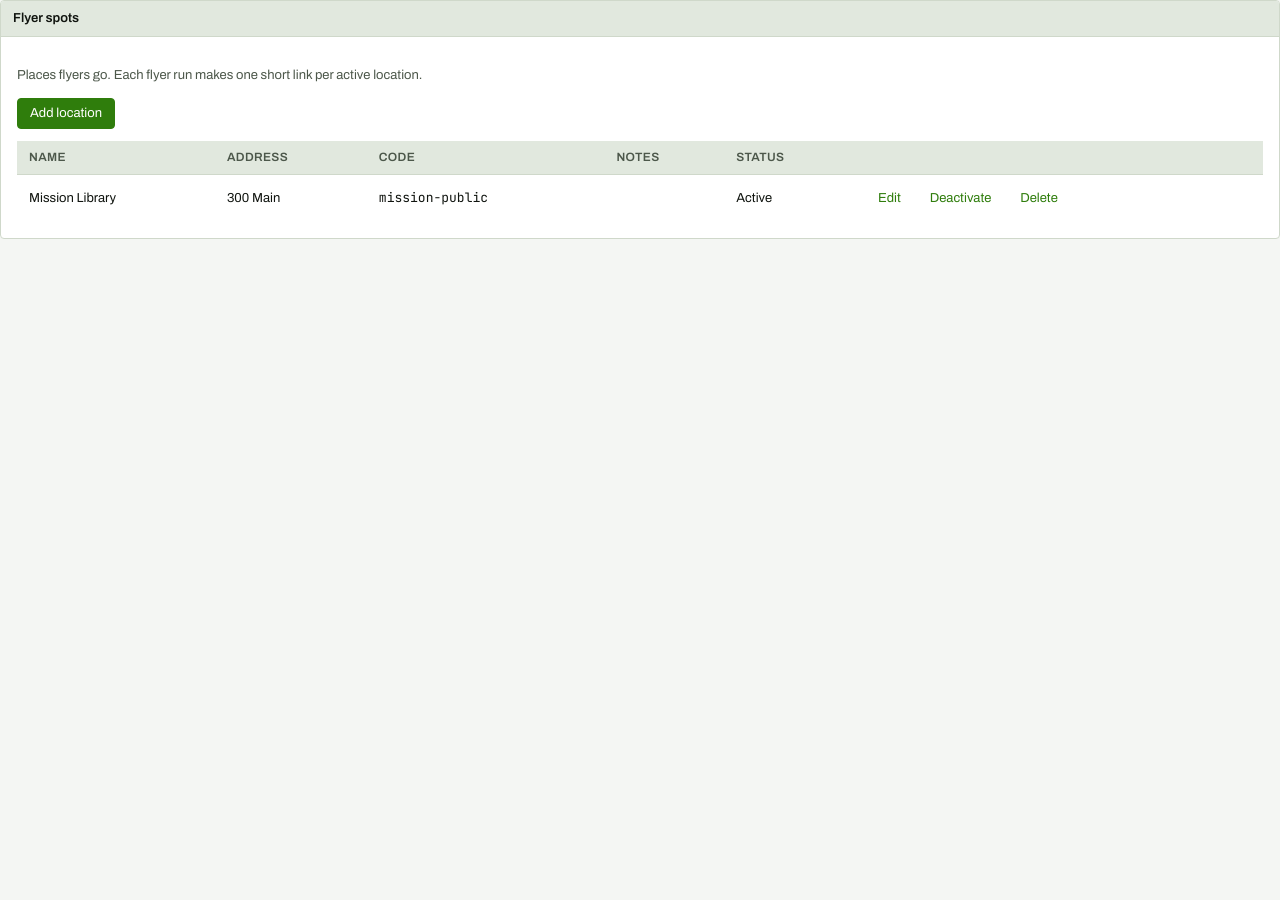
Test: OutreachLocations › avoids an existing code when suggesting
Expected: the text "Mission Library" is shown, [17,175,215,222]
Click the button "Add location".
click(66, 113)  # box [17,98,115,129]
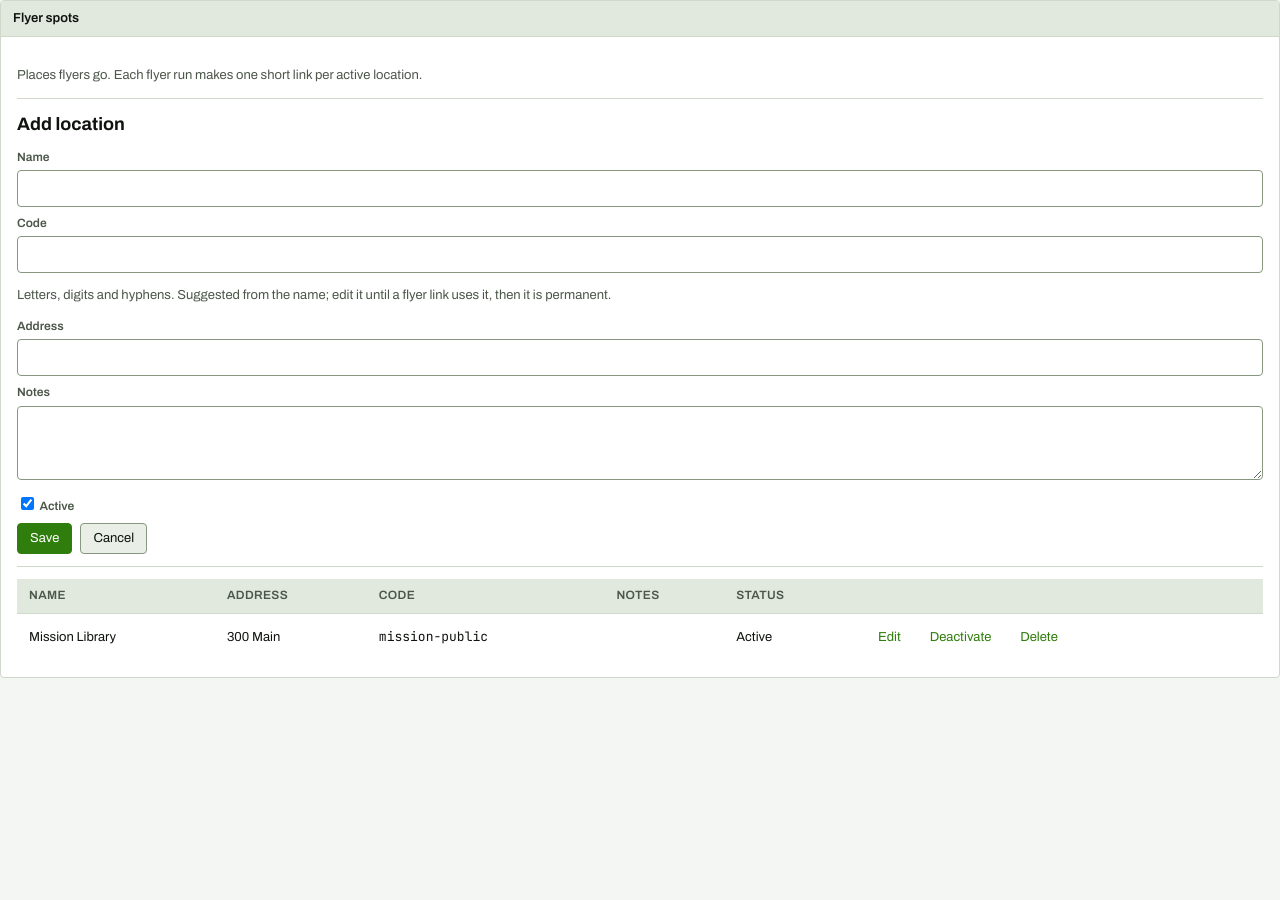
Type "Mission Public Library" into the field labelled "Name".
click(640, 189); type("Mission Public Library")  # box [17,170,1263,207]
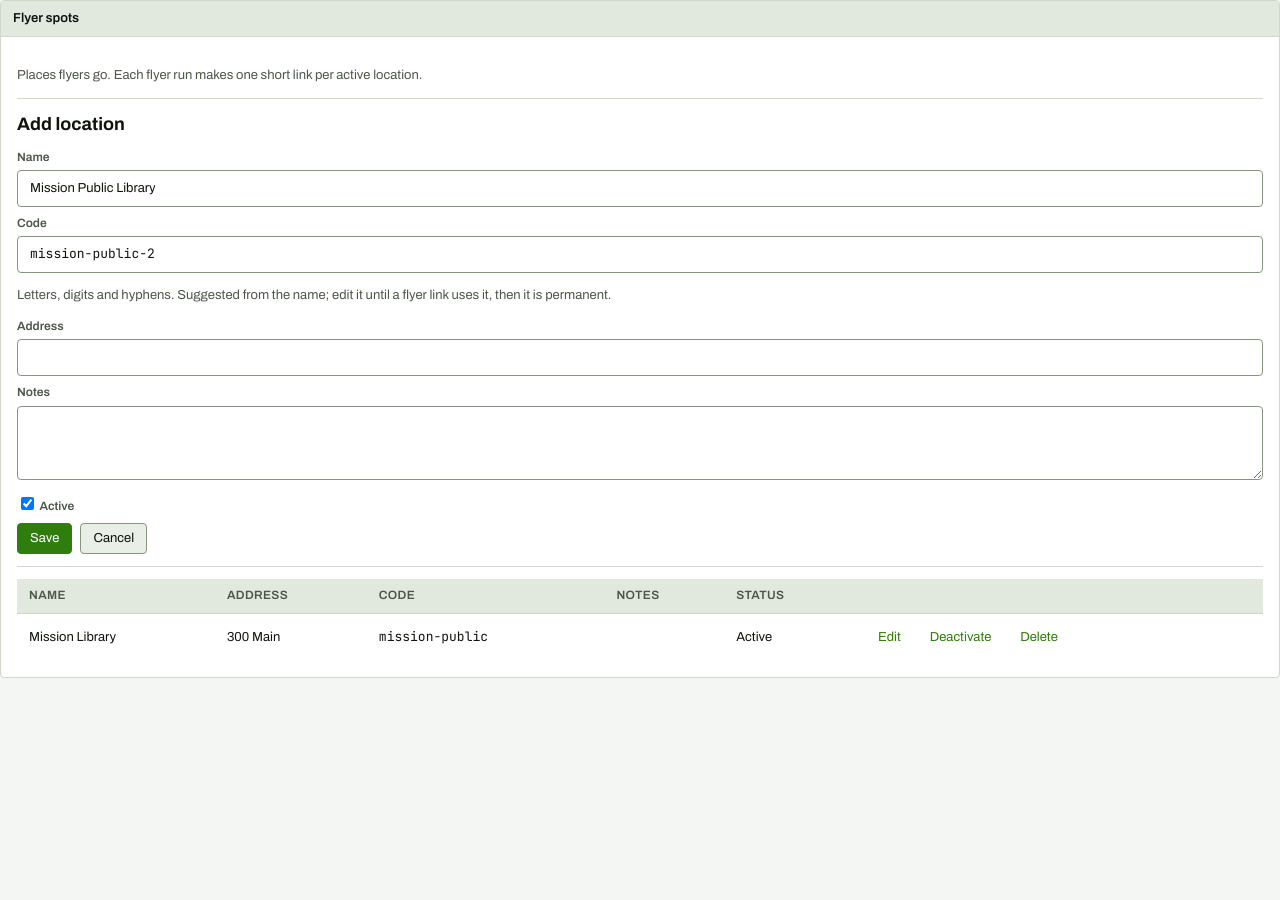
Expected: the field labelled "Code" holds "mission-public-2", [17,236,1263,273]
